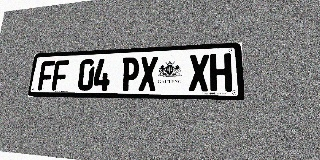0: (77, 59, 95, 91)
4: (93, 58, 111, 91)
F: (51, 60, 69, 91), (37, 61, 55, 90)
H: (210, 53, 232, 91)
P: (121, 57, 140, 91)
X: (189, 54, 209, 91), (138, 56, 158, 91)
